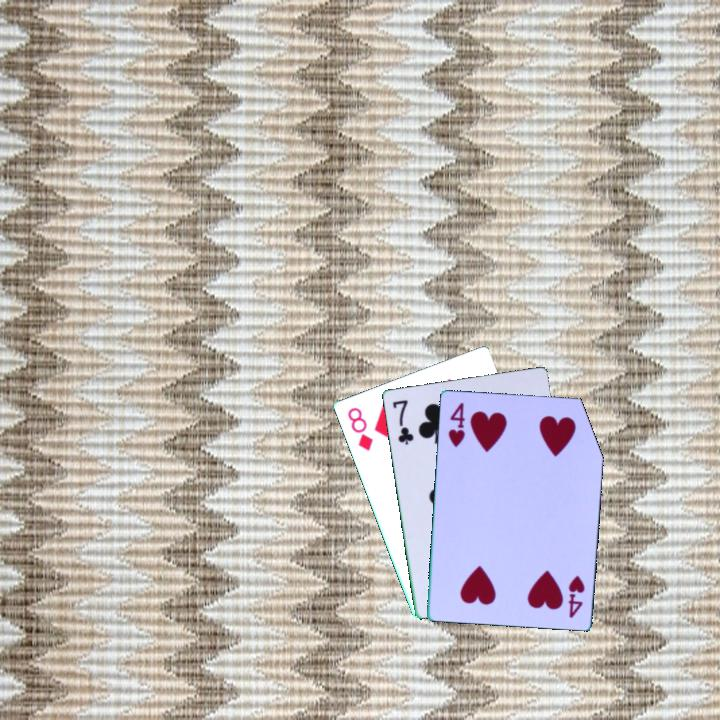4h: (444, 399, 468, 450), (564, 571, 587, 620)
7c: (389, 396, 416, 448)
8d: (343, 404, 376, 454)
